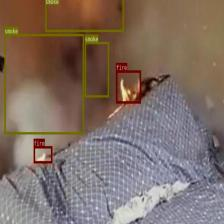fire: (116, 70, 141, 103), (33, 146, 52, 162)
smoke: (4, 34, 84, 134), (44, 0, 123, 31), (84, 42, 109, 97)
